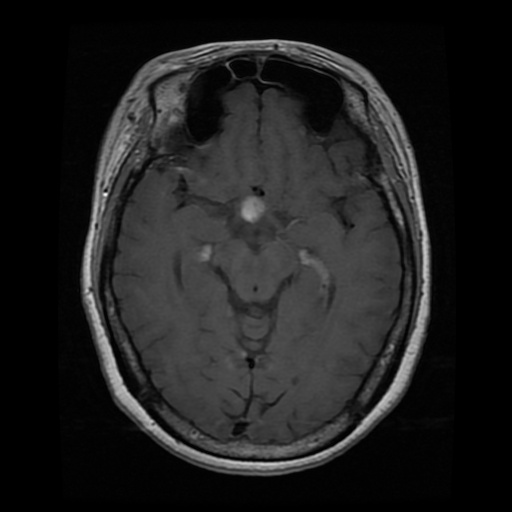pituitary: (239, 191, 268, 223)
